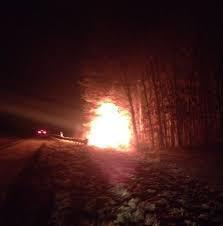fire: (70, 91, 148, 150)
